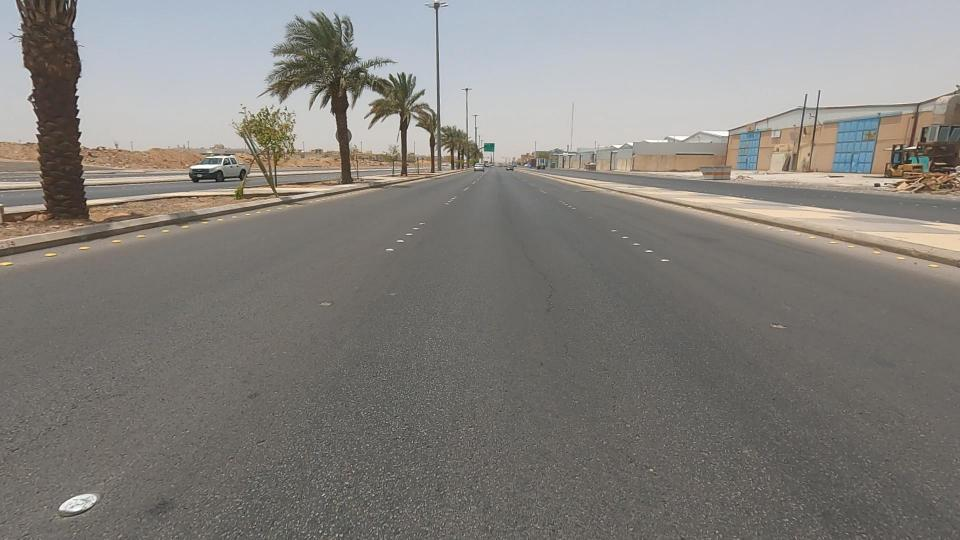CLUTTER_SIDEWALK: (31, 154, 310, 246), (273, 163, 360, 202)
